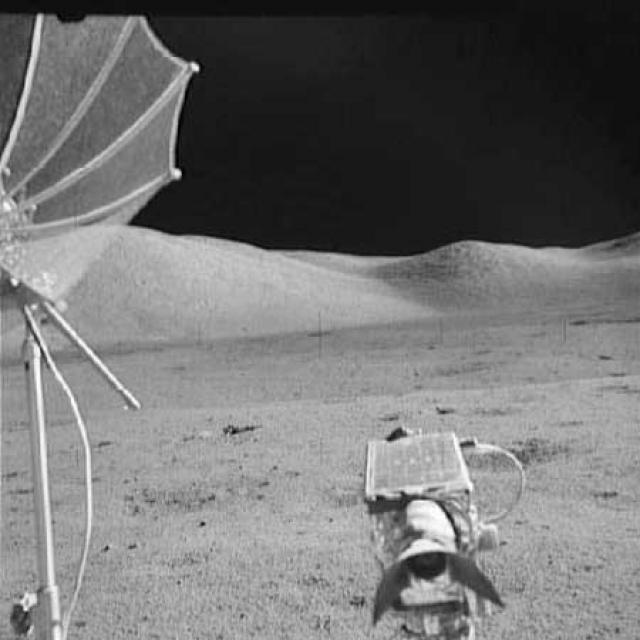artifact: (3, 0, 206, 639), (343, 422, 527, 639)
crater: (466, 440, 563, 478), (126, 482, 225, 510)
